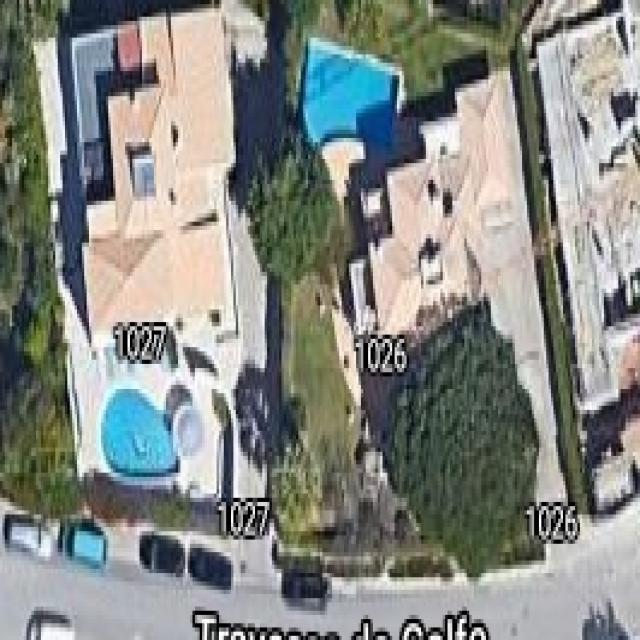pool: (294, 30, 399, 146), (99, 378, 204, 488)
